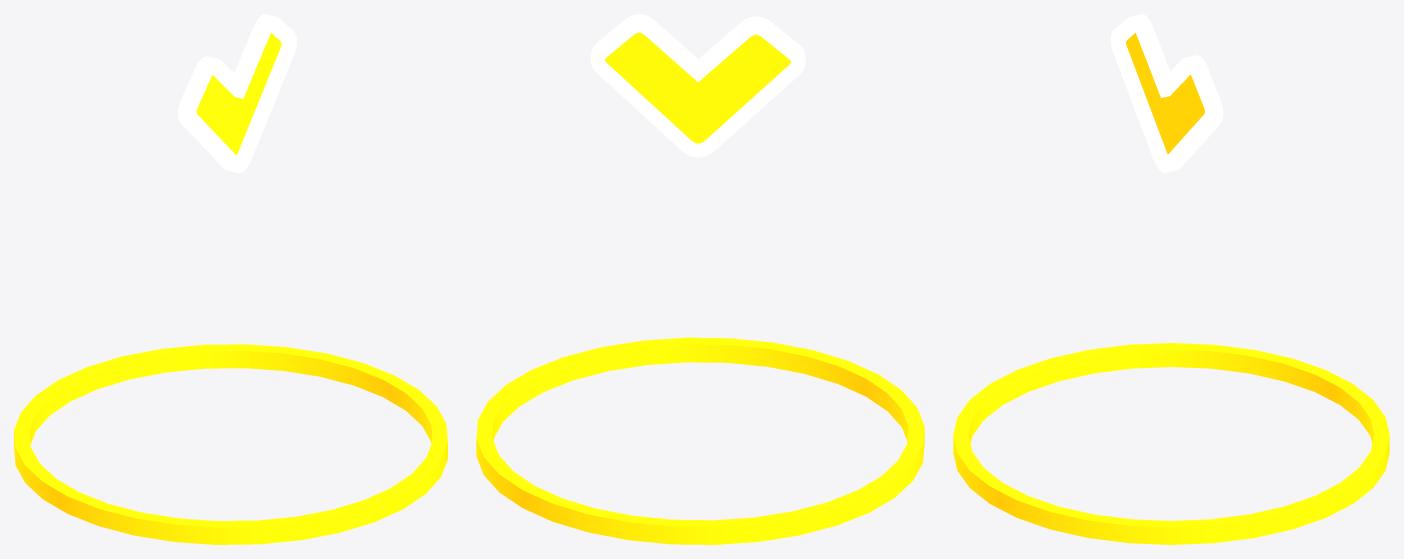
Rendered from yellowPod.glb.
3 views of the same model, side by side, from view 1: azimuth 30°, elevation 25°; view 2: azimuth 150°, elevation 25°; view 3: azimuth 270°, elevation 25° (orthographic). The views are drawn at different scales.
Parts seen in each view (by area): view 1: YellowPod; view 2: YellowPod; view 3: YellowPod.
Part boxes in pixels (<box>): YellowPod: <box>14,14,447,544</box>; YellowPod: <box>476,14,924,544</box>; YellowPod: <box>953,14,1389,544</box>.
Size of the model in its own units: 6.59 by 6.96 by 6.59.
